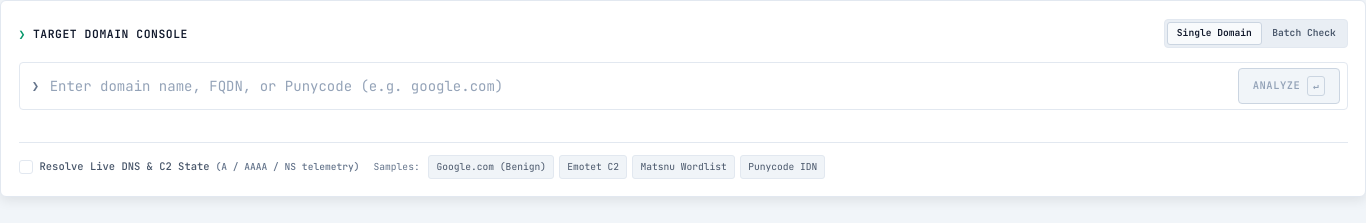
Test case: DomainInput validation feedback › shows inline error on blur with aria wiring, and disables submit
Type "a..com" into the field with placeholder "Enter domain name, FQDN, or Punycode (e.g. google.com)" at (638, 86), box [50, 76, 1227, 97]
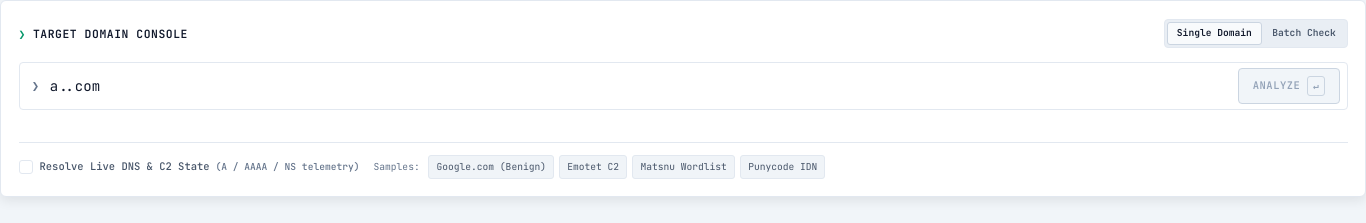
Expected: the text "empty label" is not shown
Leave the field with placeholder "Enter domain name, FQDN, or Punycode (e.g. google.com)", box [50, 76, 1227, 97]
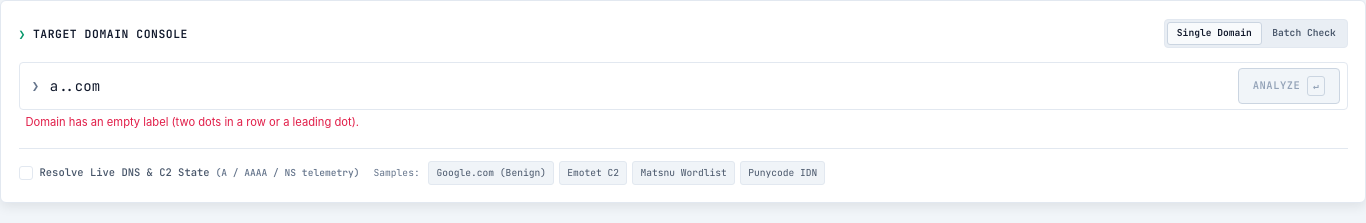
Expected: the button "Analyze ↵" is disabled, [1238, 68, 1340, 104]
Expected: the text "empty label" is shown, [26, 115, 359, 129]
